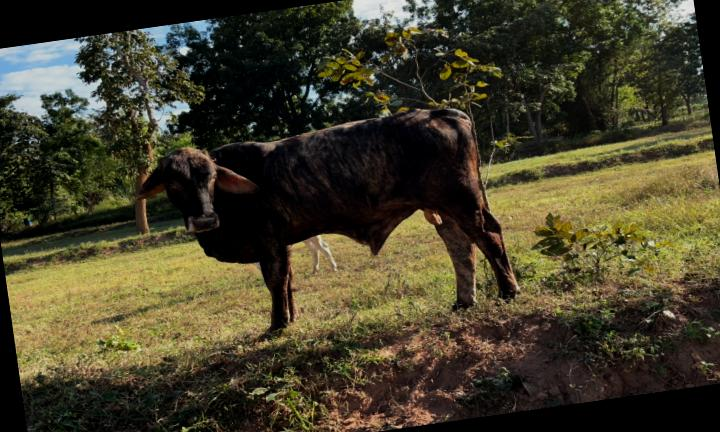Charolais: (136, 109, 518, 334)
